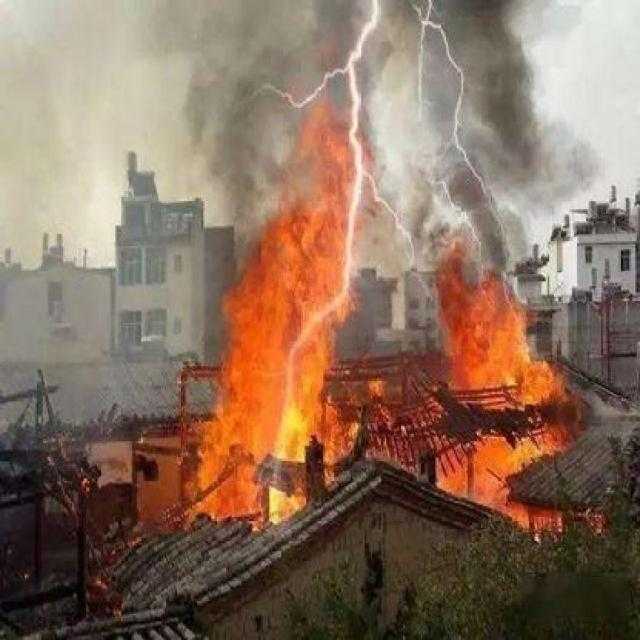Fire: (189, 43, 368, 523), (439, 230, 606, 550)
